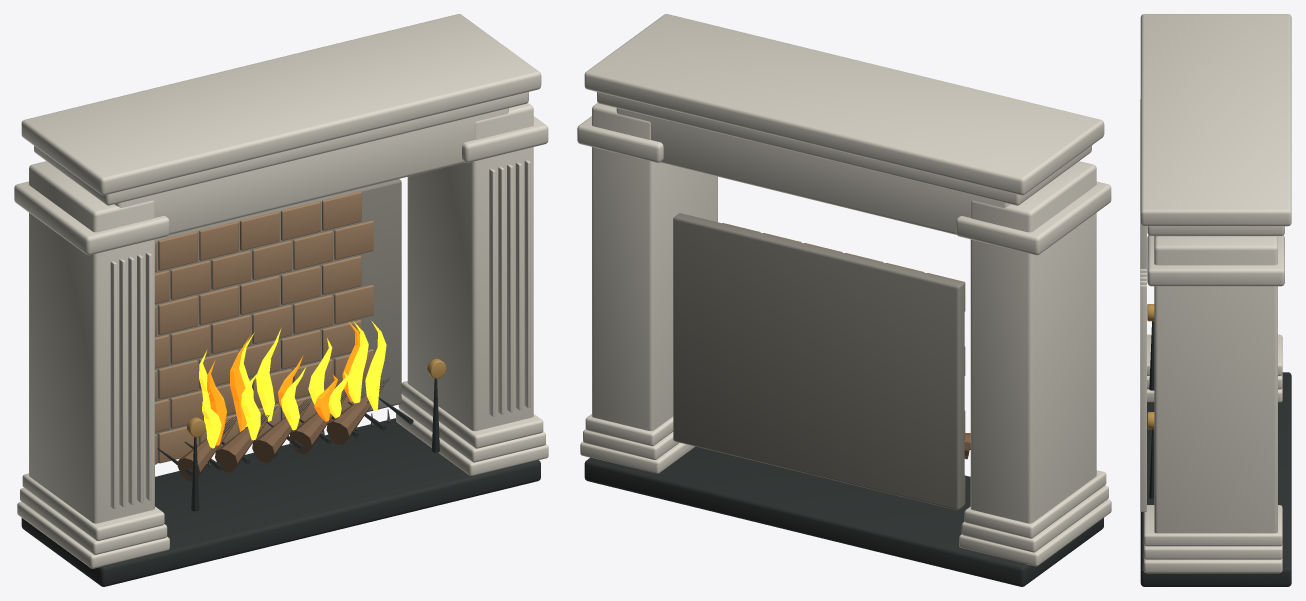
Rendered from cottage-fireplace.glb.
3 views of the same model, side by side, from view 1: azimuth 30°, elevation 25°; view 2: azimuth 150°, elevation 25°; view 3: azimuth 270°, elevation 25° (orthographic). The views are drawn at different scales.
Visible parts, largest first — view 1: cottage-fireplace; view 2: cottage-fireplace; view 3: cottage-fireplace.
Boxes of the visible parts, x1,y1,x2,y2 form: cottage-fireplace: [14, 14, 548, 586]; cottage-fireplace: [577, 14, 1111, 586]; cottage-fireplace: [1140, 14, 1291, 586].
Size of the model in its own units: 1.3 by 1.1 by 0.4.
